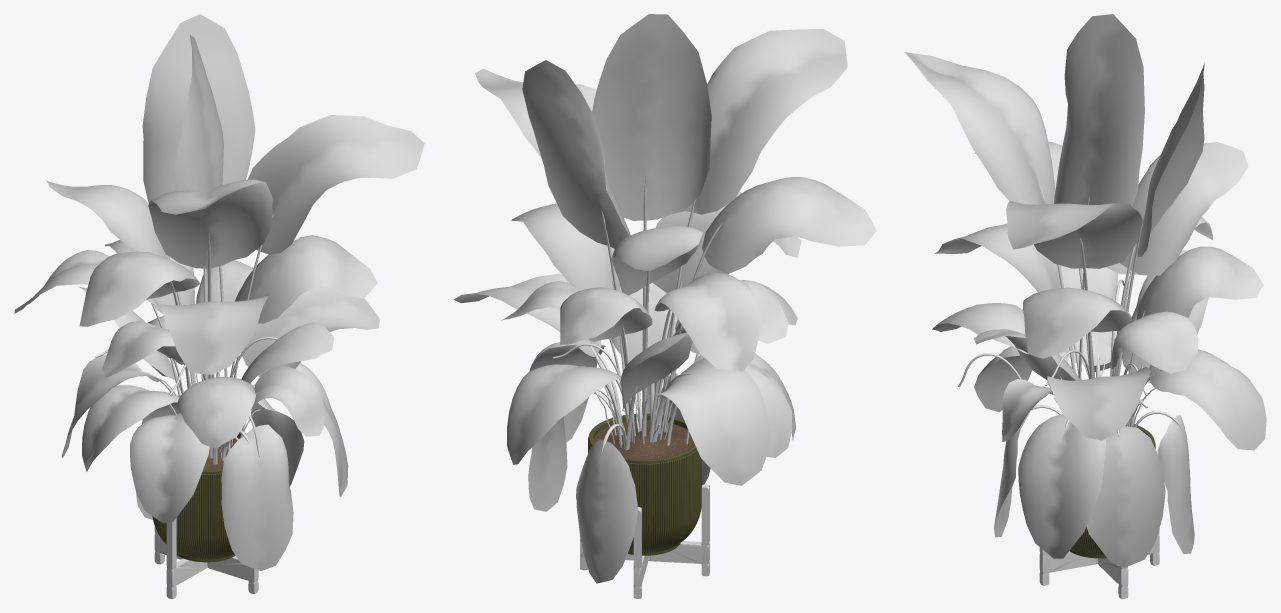
File: plant_big.fbx
The picture shows the model from 3 angles, left to right: view 1: azimuth 30°, elevation 25°; view 2: azimuth 150°, elevation 25°; view 3: azimuth 270°, elevation 25°; orthographic projection. The views are drawn at different scales.
Visible parts, largest first — view 1: Plant, Cylinder.001, Cube.002; view 2: Plant, Cylinder.001, Cube.002, Circle.002; view 3: Plant, Cube.002, Cylinder.001.
Part boxes in pixels (bbox=[...]): Plant: bbox=[14, 14, 424, 570]; Cylinder.001: bbox=[152, 432, 245, 562]; Cube.002: bbox=[154, 518, 258, 598]; Plant: bbox=[453, 14, 876, 583]; Cylinder.001: bbox=[588, 413, 701, 555]; Cube.002: bbox=[580, 484, 709, 598]; Circle.002: bbox=[593, 420, 694, 458]; Plant: bbox=[905, 14, 1266, 567]; Cube.002: bbox=[1039, 529, 1159, 598]; Cylinder.001: bbox=[1069, 424, 1155, 558].
Bounding box in the file's own units: 122 × 177 × 105.
Materials: 6 (1 with a texture image).
